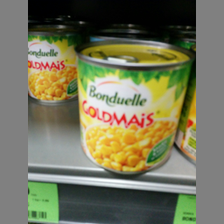corn: (75, 37, 193, 176), (29, 25, 79, 104)
